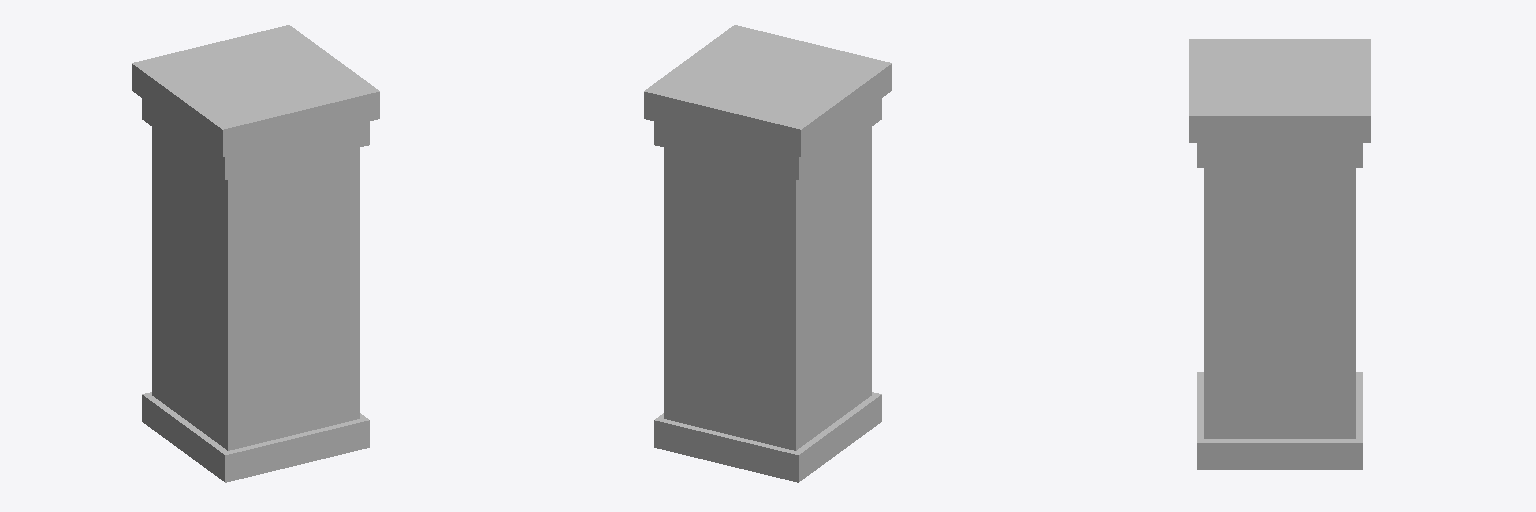
Rendered from pedestal.obj.
3 renders of one model, left to right at view 1: azimuth 30°, elevation 25°; view 2: azimuth 150°, elevation 25°; view 3: azimuth 270°, elevation 25°, orthographic.
Parts seen in each view (by area): view 1: Cube_Cube.008; view 2: Cube_Cube.008; view 3: Cube_Cube.008.
Part boxes in pixels (bbox=[...]): Cube_Cube.008: bbox=[132, 25, 379, 482]; Cube_Cube.008: bbox=[644, 25, 891, 482]; Cube_Cube.008: bbox=[1189, 39, 1370, 469].
Size of the model in its own units: 0.6 by 1.3 by 0.6.